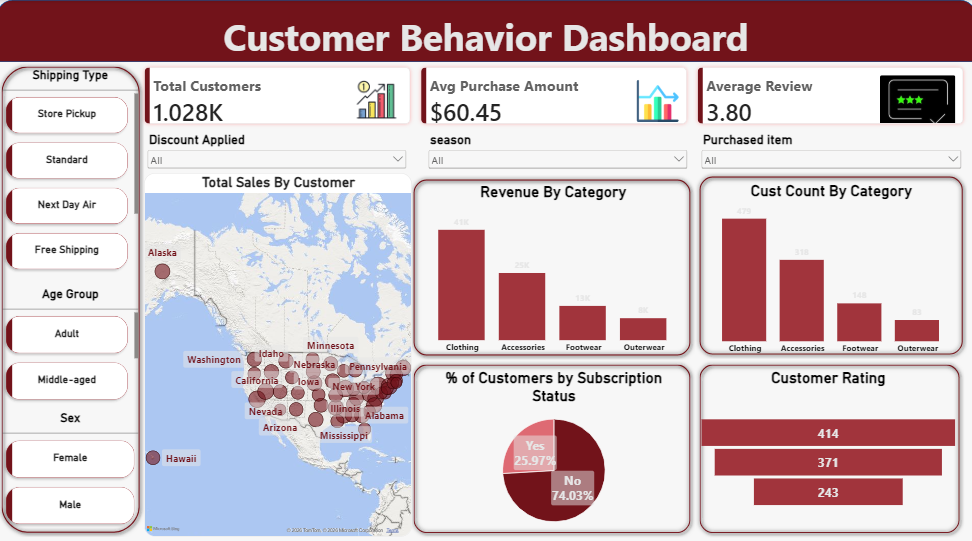

Layout of this report page (visuals, bound fields, positions):
{"tool":"powerbi","page":{"name":"Page 1","canvas":[1920,1080],"ordinal":0},"visuals":[{"type":"cardVisual","fields":{"Data":["customer.Total Customers","customer.Avg Purchase Amount","customer.Average Review Rating"]},"box":[278.7,121.8,1631,132.1],"z":0},{"type":"shape","box":[0,0,1922.1,121.8],"z":1000},{"type":"textbox","box":[0,20.6,1920,101.2],"z":2000},{"type":"shape","box":[809.3,706.1,561.5,348.9],"z":3000},{"type":"pieChart","title":"% of Customers by Subscription Status","fields":{"Category":["customer.subscription_status"],"Y":["Sum(customer.customer_id)"]},"box":[834.1,724.6,518.2,330.3],"z":4000},{"type":"shape","box":[809.3,342.7,561.5,363.4],"z":5000},{"type":"shape","box":[1370.8,338.6,534.7,367.5],"z":6000},{"type":"clusteredColumnChart","title":"Revenue By Category","fields":{"Category":["customer.category"],"Y":["Sum(customer.purchase_frequency_days)"]},"box":[819.6,359.2,547.1,338.6],"z":7000},{"type":"clusteredColumnChart","title":"Cust Count By Category","fields":{"Category":["customer.category"],"Y":["CountNonNull(customer.customer_id)"]},"box":[1379.1,357.2,520.3,342.7],"z":8000},{"type":"shape","box":[0,121.8,289,933.2],"z":9000},{"type":"advancedSlicerVisual","fields":{"Values":["customer.shipping_type"]},"box":[10.3,134.2,268.4,406.7],"z":10000},{"type":"advancedSlicerVisual","title":"Sex","fields":{"Values":["customer.gender"]},"box":[10.3,807.2,268.4,229.2],"z":11000},{"type":"slicer","fields":{"Values":["customer.item_purchased"]},"box":[1379.1,241.5,520.3,99.1],"z":12000},{"type":"slicer","fields":{"Values":["customer.season"]},"box":[842.3,241.5,518.2,101.2],"z":13000},{"type":"advancedSlicerVisual","fields":{"Values":["customer.age_group"]},"box":[10.3,563.6,268.4,229.2],"z":14000},{"type":"map","title":"Total Sales By Customer","fields":{"Category":["customer.location"],"Size":["Sum(customer.purchase_amount)"]},"box":[289,340.6,526.5,714.3],"z":15000},{"type":"slicer","fields":{"Values":["customer.discount_applied"]},"box":[291.1,241.5,518.2,101.2],"z":16000},{"type":"shape","box":[1370.8,706.1,528.5,348.9],"z":16002},{"type":"funnel","title":"Customer Rating","fields":{"Category":["customer.review_rating (groups)"],"Y":["CountNonNull(customer.review_rating)"]},"box":[1379.1,724.6,507.9,330.3],"z":16003}]}

Visuals, with their boxes in screenshot pixels (x1, y1, x2, y2), scaled from the page's 1920x1080 canvas onto the 972x541 screenshot:
cardVisual - customer.Total Customers x customer.Avg Purchase Amount: box=[141, 61, 967, 127]
shape: box=[0, 0, 971, 61]
textbox: box=[0, 10, 971, 61]
shape: box=[410, 354, 694, 528]
"% of Customers by Subscription Status" pieChart: box=[422, 363, 685, 528]
shape: box=[410, 172, 694, 354]
shape: box=[694, 170, 965, 354]
"Revenue By Category" clusteredColumnChart: box=[415, 180, 692, 350]
"Cust Count By Category" clusteredColumnChart: box=[698, 179, 962, 351]
shape: box=[0, 61, 146, 528]
advancedSlicerVisual - customer.shipping_type: box=[5, 67, 141, 271]
"Sex" advancedSlicerVisual: box=[5, 404, 141, 519]
slicer - customer.item_purchased: box=[698, 121, 962, 171]
slicer - customer.season: box=[426, 121, 689, 172]
advancedSlicerVisual - customer.age_group: box=[5, 282, 141, 397]
"Total Sales By Customer" map: box=[146, 171, 413, 528]
slicer - customer.discount_applied: box=[147, 121, 410, 172]
shape: box=[694, 354, 962, 528]
"Customer Rating" funnel: box=[698, 363, 955, 528]
